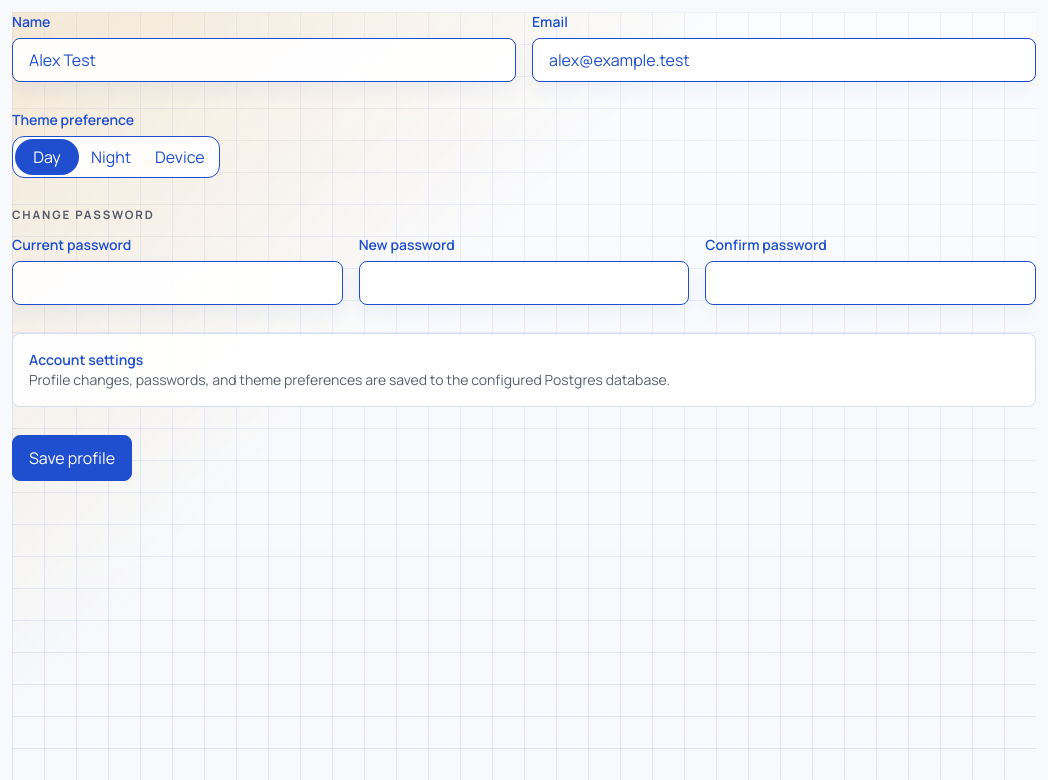
Test: ProfileForm › shows an error message and does not refresh on a failed save
The image size is (1048, 780).
Click the button "Save profile" at (72, 458), box [12,435,132,481]
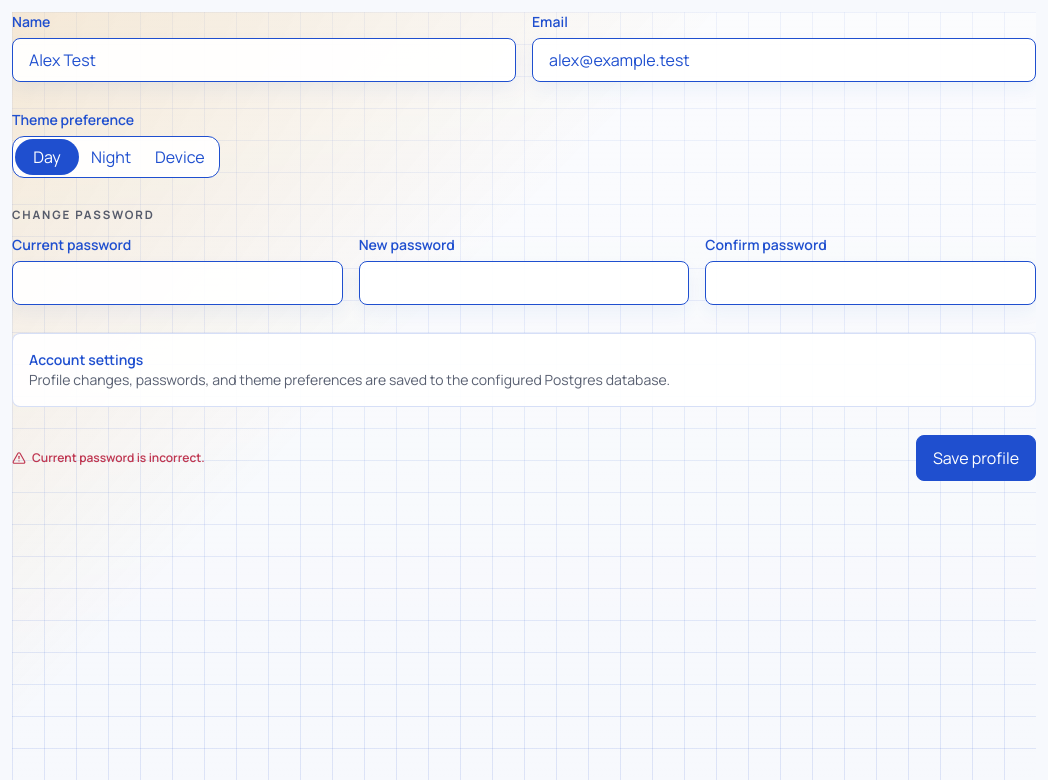
Now the message reads "Current password is incorrect.", box [32,449,205,466]
